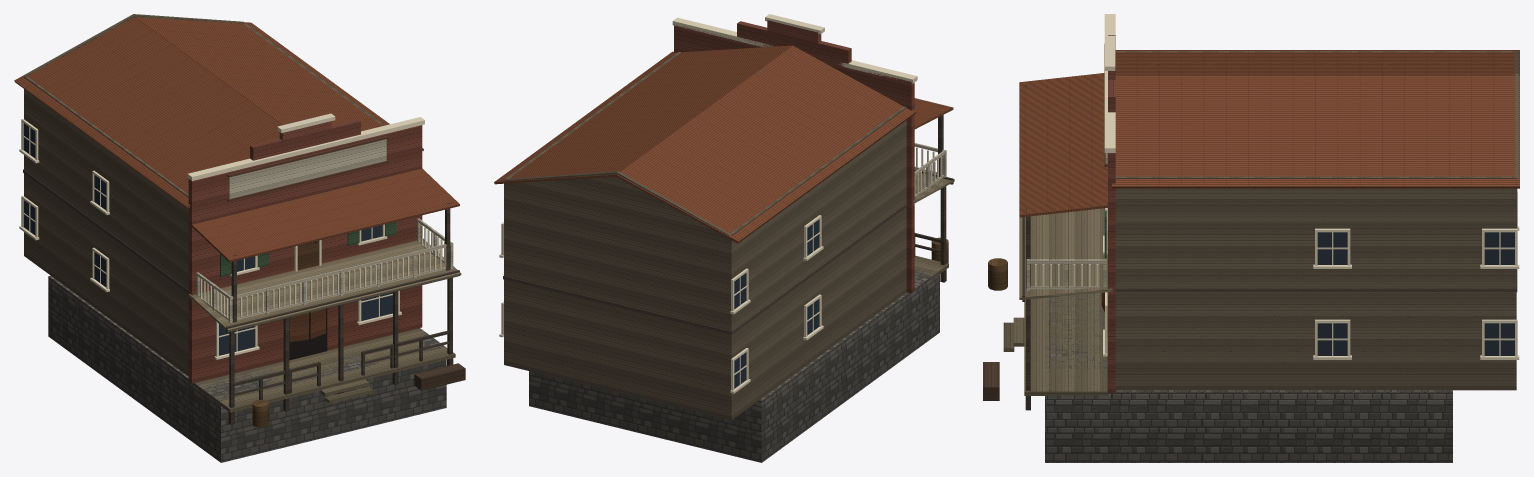
Rendered from saloon_velho.glb.
The picture shows the model from 3 angles, left to right: view 1: azimuth 30°, elevation 25°; view 2: azimuth 150°, elevation 25°; view 3: azimuth 270°, elevation 25°; orthographic projection. The views are drawn at different scales.
Parts seen in each view (by area): view 1: saloon_velho, saloon_velho_madeira; view 2: saloon_velho_madeira, saloon_velho; view 3: saloon_velho, saloon_velho_madeira.
Boxes of the visible parts, <box> form: saloon_velho: <box>14,17,459,462</box>; saloon_velho_madeira: <box>23,14,465,427</box>; saloon_velho_madeira: <box>503,20,954,420</box>; saloon_velho: <box>494,14,953,462</box>; saloon_velho: <box>1019,14,1519,462</box>; saloon_velho_madeira: <box>983,35,1518,410</box>.
Size of the model in its own units: 9.66 by 11.44 by 16.05.
Materials: 4 (3 with a texture image).
